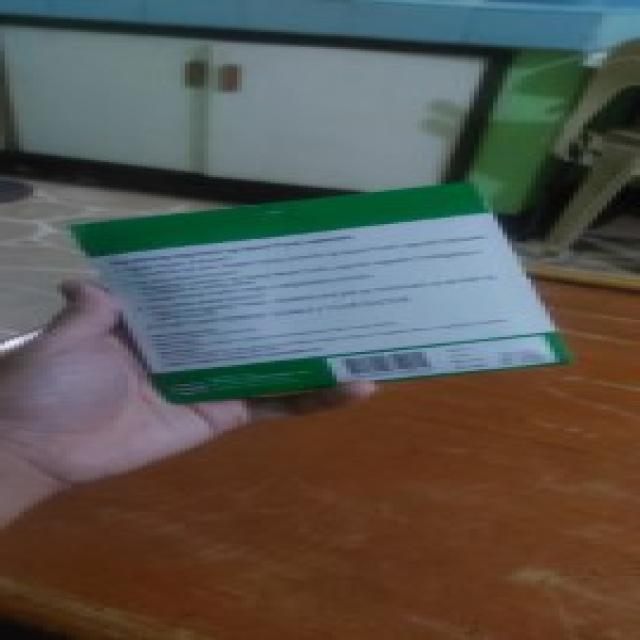Cacat: (64, 186, 574, 407)
